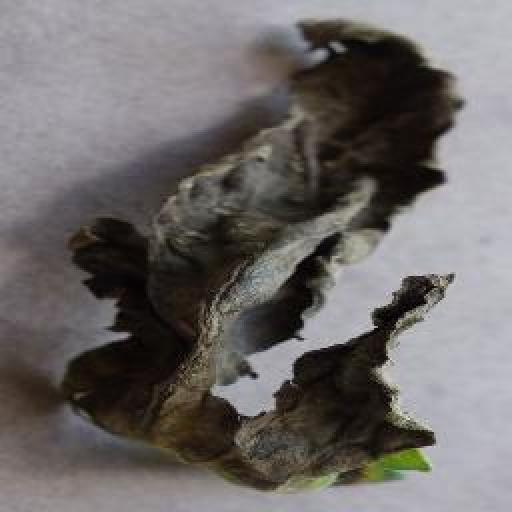Early Blight: (58, 19, 460, 488)
